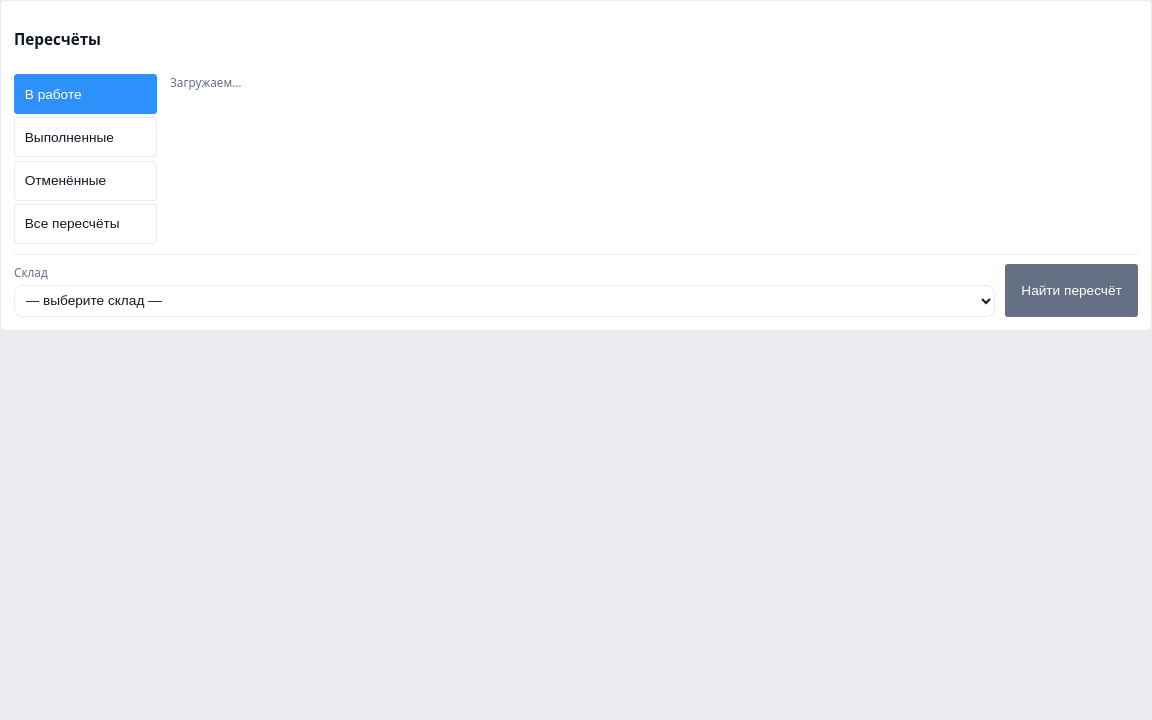
сведение расхождений называет позицию номером › колонка «Номер товара» стоит первой, и в ней номер этой позиции
The image size is (1152, 720).
Click the button "Выполненные" at (86, 137), box [14,117,157,157]
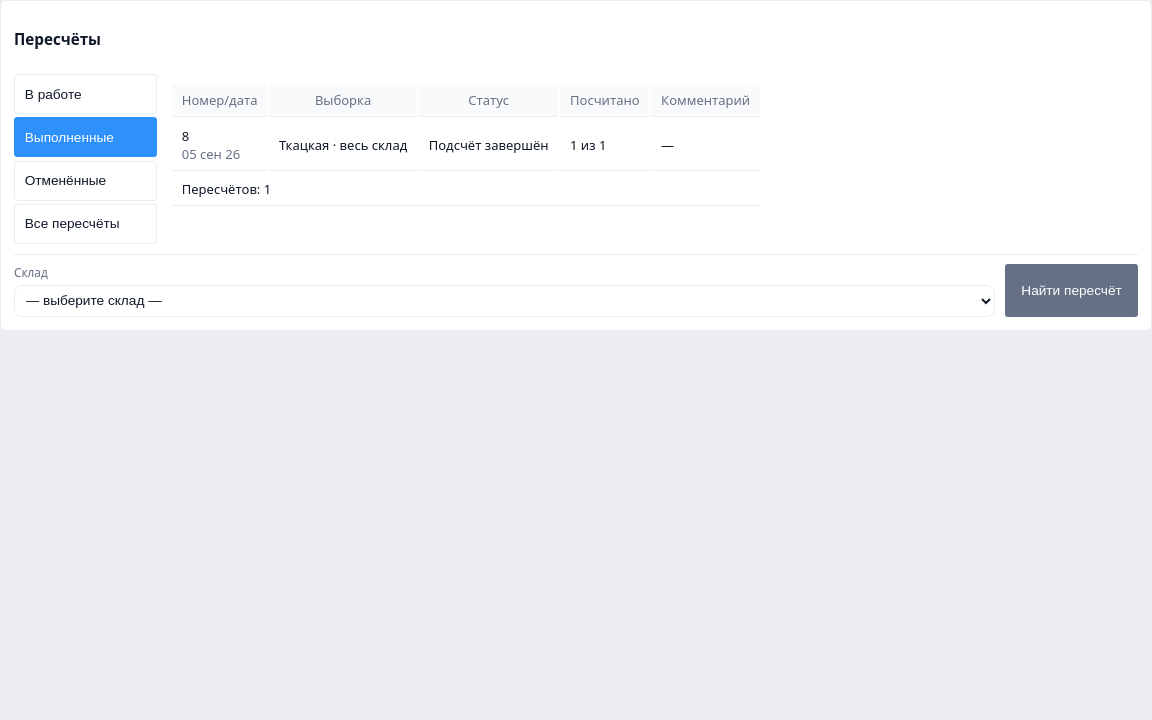
Click the text "Подсчёт завершён" at (489, 145), box [419,119,558,171]
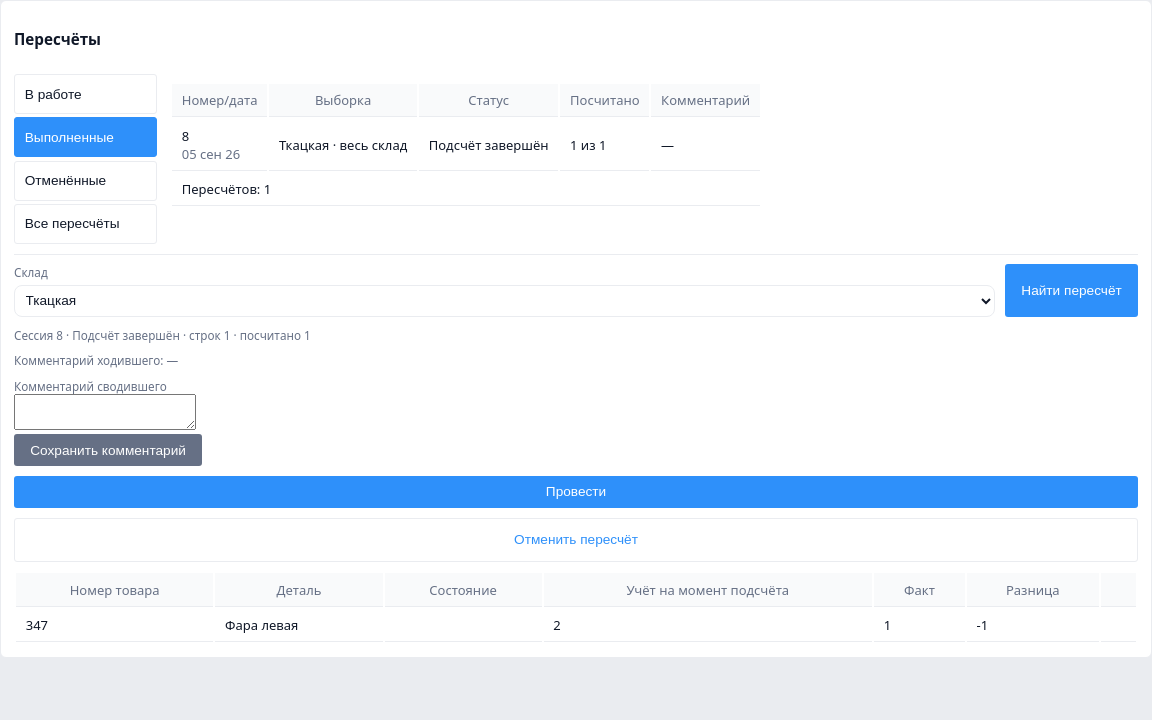
Expected: the text "Фара левая" is shown, [215,609,383,642]
